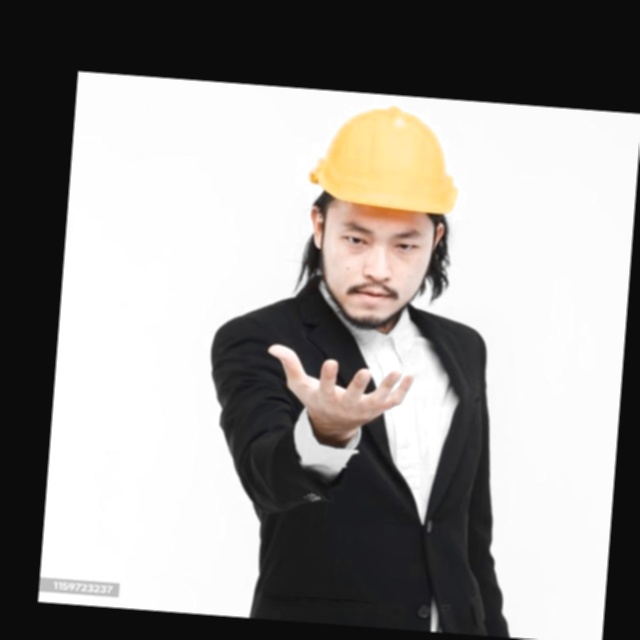Con_Casco: (297, 100, 465, 337)
Sin_Chaleco: (201, 292, 497, 630)
